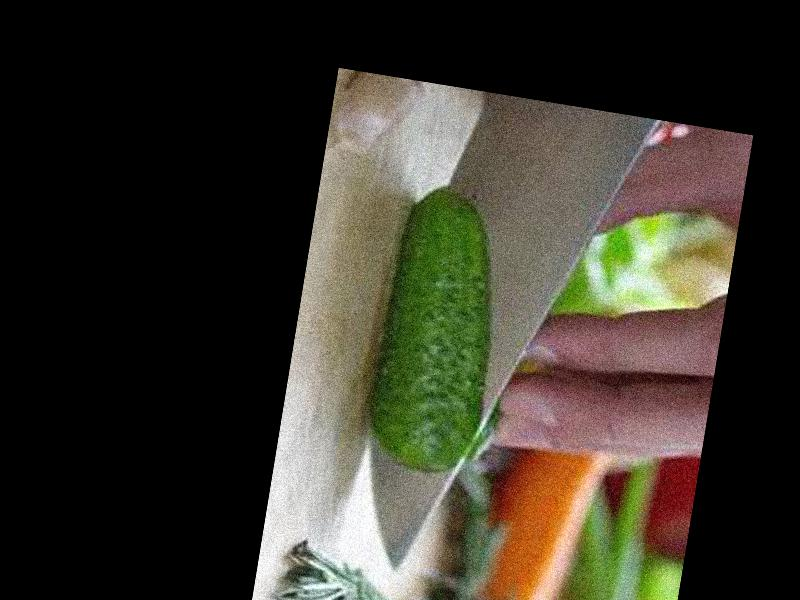Cucumber: (357, 183, 516, 480)
